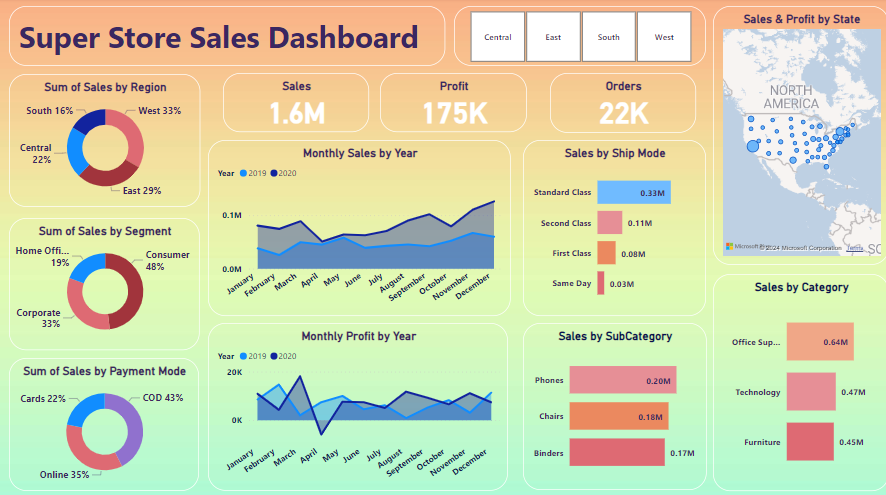

The page's visual inventory and layout, read from the dashboard file:
{"tool":"powerbi","page":{"name":"Super Store Sales Dashboard","canvas":[1280,720],"ordinal":0},"visuals":[{"type":"clusteredBarChart","title":"Sales by Category","fields":{"Category":["SuperStore_Sales_Dataset.Category"],"Y":["Sum(SuperStore_Sales_Dataset.Sales)"]},"box":[1026.1,396.6,252.9,311.9],"z":0},{"type":"clusteredBarChart","title":"Sales by SubCategory","fields":{"Y":["Sum(SuperStore_Sales_Dataset.Sales)"],"Category":["SuperStore_Sales_Dataset.Sub-Category"]},"box":[752.9,467.7,263.5,240.4],"z":1000},{"type":"clusteredBarChart","title":"Sales by Ship Mode","fields":{"Y":["Sum(SuperStore_Sales_Dataset.Sales)"],"Category":["SuperStore_Sales_Dataset.Ship Mode"]},"box":[753.1,204.1,263,252.9],"z":2000},{"type":"areaChart","title":"Monthly Sales by Year","fields":{"Y":["Sum(SuperStore_Sales_Dataset.Sales)"],"Category":["SuperStore_Sales_Dataset.Order Dates.Variation.Date Hierarchy.Month"],"Series":["SuperStore_Sales_Dataset.Order Dates.Variation.Date Hierarchy.Year"]},"box":[300.4,204.1,435.4,252.9],"z":3000},{"type":"areaChart","title":"Monthly Profit by Year","fields":{"Category":["SuperStore_Sales_Dataset.Order Dates.Variation.Date Hierarchy.Month"],"Series":["SuperStore_Sales_Dataset.Order Dates.Variation.Date Hierarchy.Year"],"Y":["Sum(SuperStore_Sales_Dataset.Profit)"]},"box":[300.4,467.1,431.1,241.4],"z":4000},{"type":"map","title":"Sales & Profit by State","fields":{"Category":["SuperStore_Sales_Dataset.State"],"Size":["Sum(SuperStore_Sales_Dataset.Sales)"]},"box":[1026.6,11.6,253.4,372.1],"z":5000},{"type":"donutChart","fields":{"Category":["SuperStore_Sales_Dataset.Segment"],"Y":["Sum(SuperStore_Sales_Dataset.Sales)"]},"box":[14.4,316.2,274.5,189.7],"z":6000},{"type":"donutChart","fields":{"Category":["SuperStore_Sales_Dataset.Payment Mode"],"Y":["Sum(SuperStore_Sales_Dataset.Sales)"]},"box":[14.4,517.4,273.1,191.1],"z":7000},{"type":"slicer","fields":{"Values":["SuperStore_Sales_Dataset.Region"]},"box":[653.9,11.5,362.2,86.2],"z":8000},{"type":"textbox","box":[14.4,11.5,626.6,86.2],"z":9000},{"type":"card","title":"Sales","fields":{"Values":["Sum(SuperStore_Sales_Dataset.Sales)"]},"box":[321.9,107.8,209.8,84.8],"z":10000},{"type":"card","title":"Orders","fields":{"Values":["Sum(SuperStore_Sales_Dataset.Quantity)"]},"box":[791.9,107.8,209.8,86.2],"z":11000},{"type":"card","title":"Profit","fields":{"Values":["Sum(SuperStore_Sales_Dataset.Profit)"]},"box":[547.5,107.8,211.3,84.8],"z":12000},{"type":"donutChart","fields":{"Y":["Sum(SuperStore_Sales_Dataset.Sales)"],"Category":["SuperStore_Sales_Dataset.Region"]},"box":[14.5,108.6,275.1,191.1],"z":13000}]}

Visuals, with their boxes in screenshot pixels (x1, y1, x2, y2), scaled from the page's 1280x720 canvas onto the 886x495 screenshot:
"Sales by Category" clusteredBarChart: detection(710, 273, 885, 487)
"Sales by SubCategory" clusteredBarChart: detection(521, 322, 704, 487)
"Sales by Ship Mode" clusteredBarChart: detection(521, 140, 703, 314)
"Monthly Sales by Year" areaChart: detection(208, 140, 509, 314)
"Monthly Profit by Year" areaChart: detection(208, 321, 506, 487)
"Sales & Profit by State" map: detection(711, 8, 885, 264)
donutChart - SuperStore_Sales_Dataset.Segment x Sum(SuperStore_Sales_Dataset.Sales): detection(10, 217, 200, 348)
donutChart - SuperStore_Sales_Dataset.Payment Mode x Sum(SuperStore_Sales_Dataset.Sales): detection(10, 356, 199, 487)
slicer - SuperStore_Sales_Dataset.Region: detection(453, 8, 703, 67)
textbox: detection(10, 8, 444, 67)
"Sales" card: detection(223, 74, 368, 132)
"Orders" card: detection(548, 74, 693, 133)
"Profit" card: detection(379, 74, 525, 132)
donutChart - Sum(SuperStore_Sales_Dataset.Sales) x SuperStore_Sales_Dataset.Region: detection(10, 75, 200, 206)
